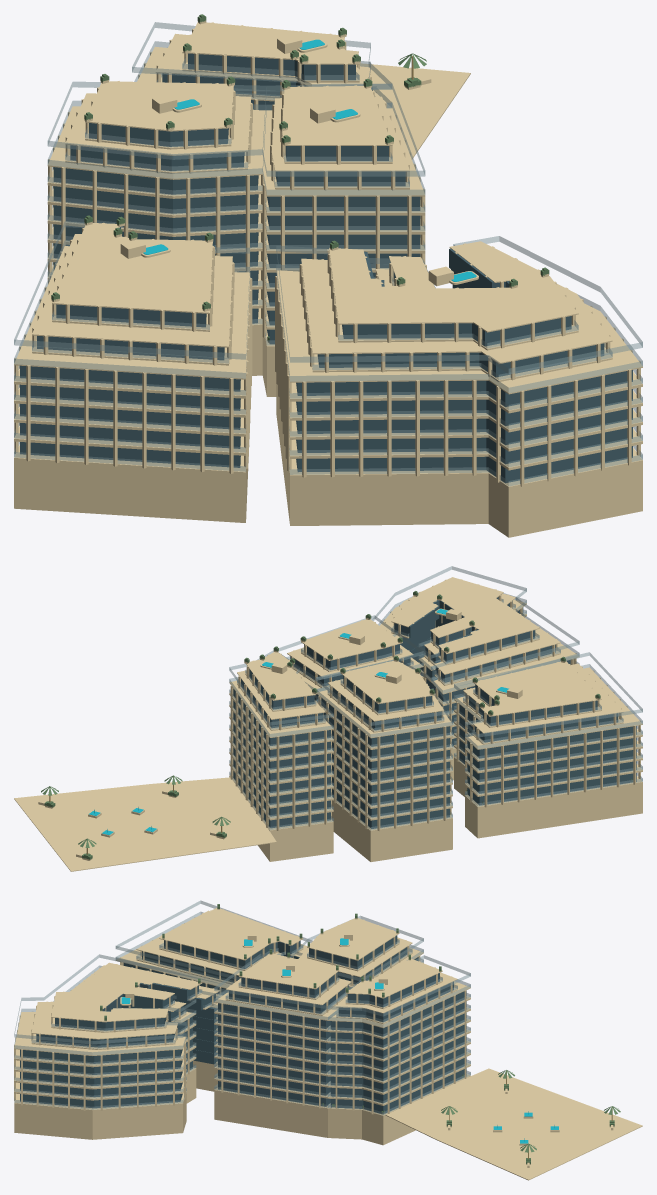
The model's file is tigne-15.glb.
3 views of the same model, one above another, from view 1: azimuth 30°, elevation 25°; view 2: azimuth 150°, elevation 25°; view 3: azimuth 270°, elevation 25° (orthographic). The views are drawn at different scales.
Parts seen in each view (by area): view 1: T5F Wohnhaus, T4F Wohnhaus, T4B Wohnhaus, T5B Wohnhaus, T4P Wohnhaus, Piazza mit Brunnen; view 2: T4F Wohnhaus, T4B Wohnhaus, T4P Wohnhaus, Piazza mit Brunnen, T5F Wohnhaus, T5B Wohnhaus; view 3: T5F Wohnhaus, T4P Wohnhaus, T5B Wohnhaus, Piazza mit Brunnen, T4F Wohnhaus, T4B Wohnhaus.
Boxes of the visible parts, box(x1,y1,x2,y2) form: T5F Wohnhaus: box(275, 236, 642, 537); T4F Wohnhaus: box(14, 215, 252, 522); T4B Wohnhaus: box(47, 74, 266, 375); T5B Wohnhaus: box(261, 78, 425, 396); T4P Wohnhaus: box(132, 14, 391, 110); Piazza mit Brunnen: box(360, 53, 470, 159); T4F Wohnhaus: box(454, 652, 642, 838); T4B Wohnhaus: box(316, 656, 452, 861); T4P Wohnhaus: box(229, 646, 333, 861); Piazza mit Brunnen: box(14, 775, 276, 871); T5F Wohnhaus: box(372, 566, 579, 780); T5B Wohnhaus: box(279, 614, 423, 702); T5F Wohnhaus: box(14, 954, 232, 1139); T4P Wohnhaus: box(328, 954, 470, 1145); T5B Wohnhaus: box(214, 949, 361, 1137); Piazza mit Brunnen: box(385, 1068, 642, 1180); T4F Wohnhaus: box(115, 900, 312, 994); T4B Wohnhaus: box(290, 913, 423, 988).
Bounding box in the file's own units: 126 × 40.6 × 159.
